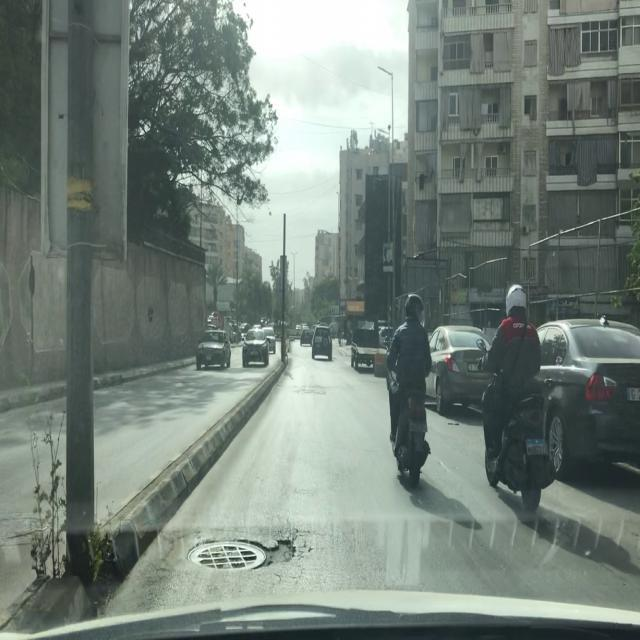Buraco: (238, 538, 298, 570)
